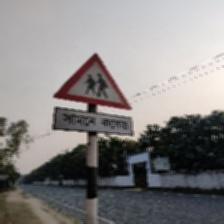College-in-front: (64, 45, 146, 142)
